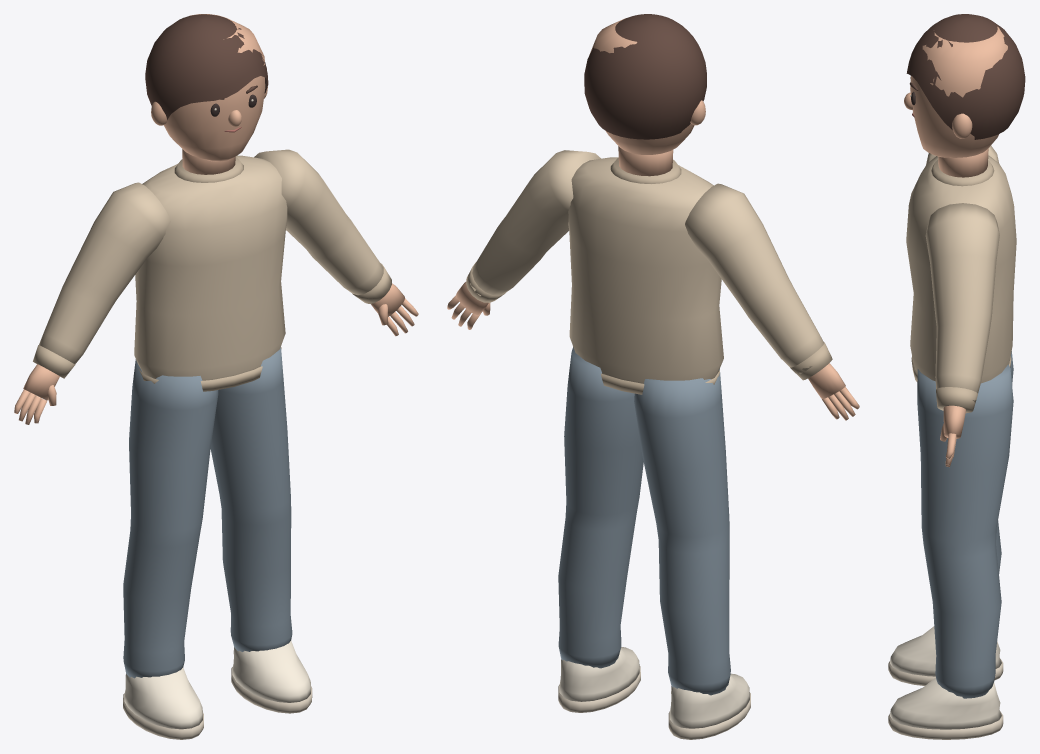
Rendered from CafeCustomer 1.fbx.
3 views of the same model, side by side, from view 1: azimuth 30°, elevation 25°; view 2: azimuth 150°, elevation 25°; view 3: azimuth 270°, elevation 25° (orthographic). The views are drawn at different scales.
Parts seen in each view (by area): view 1: Pullover, Trouser leg, Trouser leg.001, Sleeve, Side swept crop, Sleeve.001, Face, Sneaker, Sneaker.001, Outsole.001, Outsole, Hem (+4 smaller); view 2: Pullover, Trouser leg, Trouser leg.001, Side swept crop, Sleeve, Sleeve.001, Sneaker, Sneaker.001, Face, Neck, Outsole.001, Outsole (+3 smaller); view 3: Trouser leg.001, Sleeve.001, Pullover, Side swept crop, Face, Sneaker.001, Sneaker, Outsole.001, Neck, Cuff.001, Collar, Palm.001 (+3 smaller).
Boxes of the visible parts, x1,y1,x2,y2 form: Pullover: [134, 155, 287, 380]; Trouser leg: [123, 359, 218, 678]; Trouser leg.001: [210, 347, 292, 651]; Sleeve: [39, 182, 170, 364]; Side swept crop: [145, 14, 268, 119]; Sleeve.001: [254, 149, 383, 295]; Face: [163, 14, 265, 161]; Sneaker: [124, 668, 202, 729]; Sneaker.001: [232, 640, 310, 702]; Outsole.001: [231, 667, 312, 713]; Outsole: [123, 693, 203, 739]; Hem: [138, 347, 281, 391]; Pullover: [568, 157, 723, 383]; Trouser leg: [634, 369, 730, 695]; Trouser leg.001: [558, 347, 643, 668]; Side swept crop: [584, 14, 706, 139]; Sleeve: [685, 183, 823, 374]; Sleeve.001: [470, 150, 600, 295]; Sneaker: [669, 673, 749, 728]; Sneaker.001: [559, 647, 639, 701]; Face: [589, 18, 694, 154]; Neck: [618, 146, 673, 176]; Outsole.001: [558, 666, 640, 712]; Outsole: [668, 693, 750, 739]; Trouser leg.001: [917, 364, 1013, 698]; Sleeve.001: [925, 203, 999, 402]; Pullover: [906, 155, 1016, 383]; Side swept crop: [906, 14, 1025, 139]; Face: [910, 26, 1007, 157]; Sneaker.001: [890, 677, 1001, 729]; Sneaker: [890, 626, 1001, 676]; Outsole.001: [888, 711, 1003, 739]; Neck: [938, 148, 988, 177]; Cuff.001: [936, 387, 977, 413]; Collar: [931, 159, 994, 186]; Palm.001: [943, 405, 965, 438].
Size of the model in its own units: 105 by 169 by 30.99.
